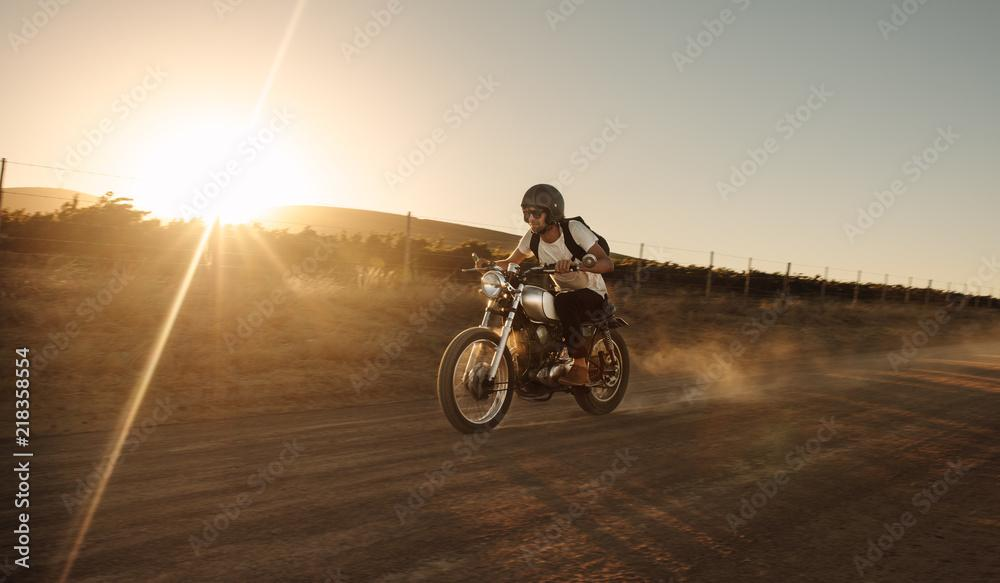helmet: (520, 183, 565, 234)
